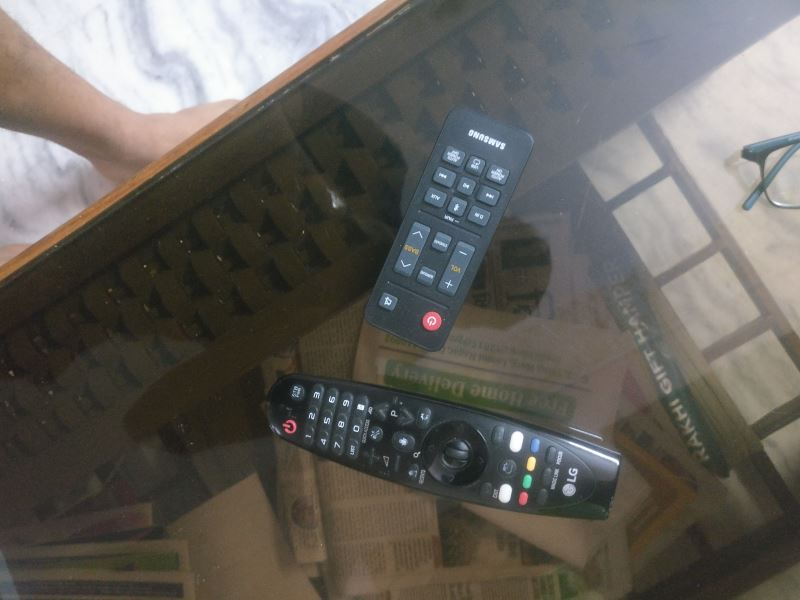tv remote: (264, 373, 623, 520), (363, 108, 535, 351)
